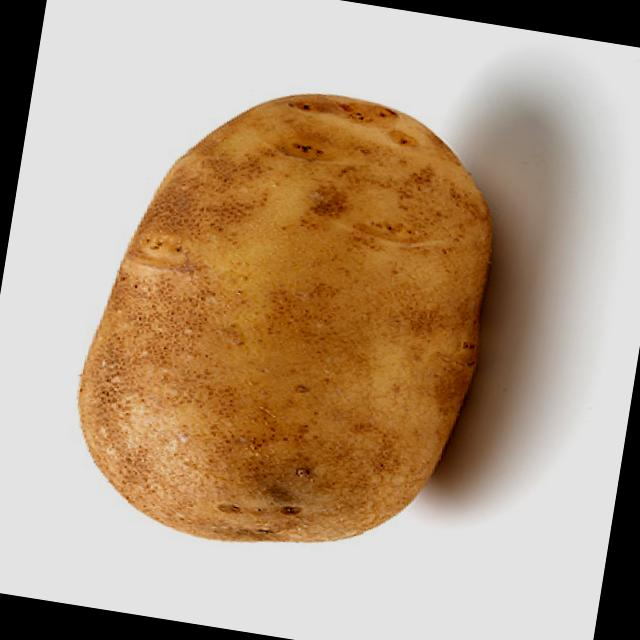potato: (66, 61, 532, 584)
